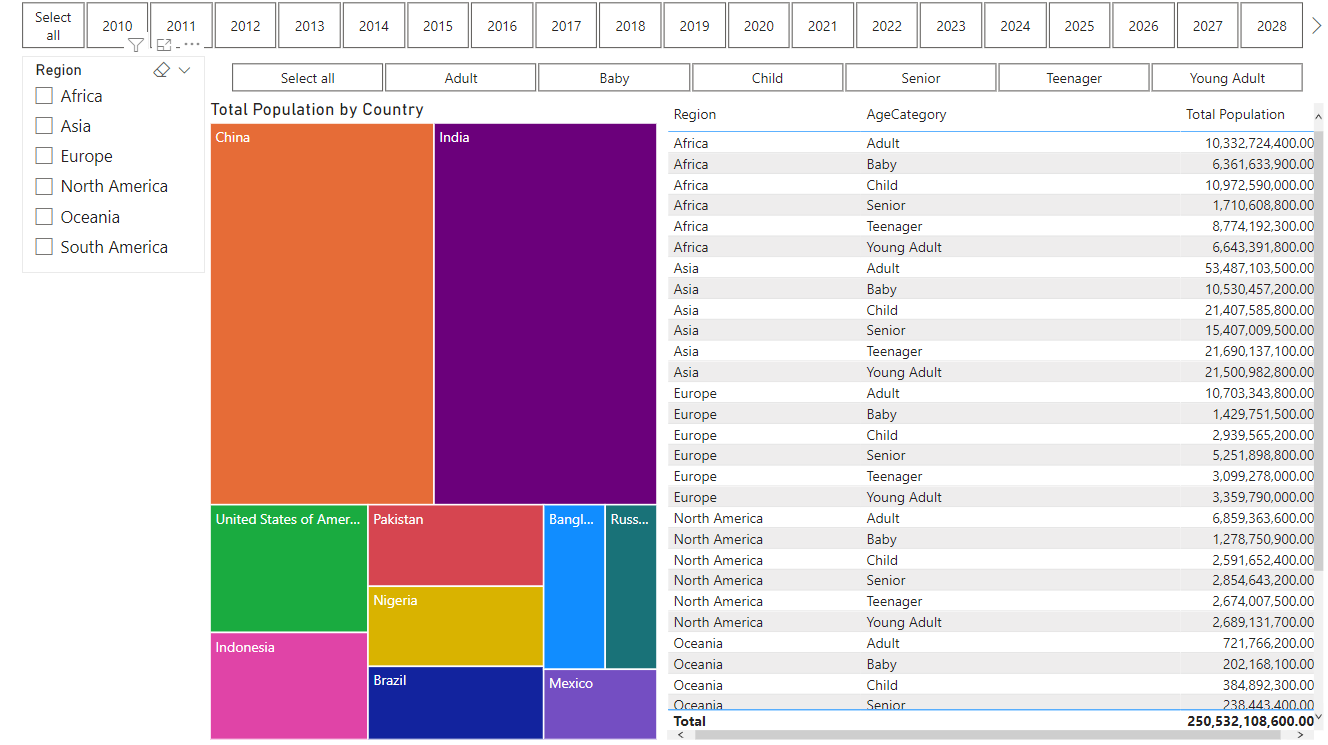

The page's visual inventory and layout, read from the dashboard file:
{"tool":"powerbi","page":{"name":"Treemap & Table","canvas":[1280,720],"ordinal":3},"visuals":[{"type":"slicer","fields":{"Values":["FactPopulation.Year"]},"box":[0,0,1280,58.4],"z":0},{"type":"slicer","fields":{"Values":["DimRegion.Region"]},"box":[26.3,58.4,175.1,208.1],"z":1000},{"type":"treemap","fields":{"Values":["FactPopulation.Total Population"],"Details":["DimRegion.Country"]},"box":[201.7,98.9,438.8,621.3],"z":2000},{"type":"slicer","fields":{"Values":["DimAge.AgeCategory"]},"box":[201.7,58.6,1078.3,40.3],"z":3000},{"type":"tableEx","fields":{"Values":["DimRegion.Region","DimAge.AgeCategory","FactPopulation.Total Population"]},"box":[640.5,98.9,639.5,621.3],"z":4000}]}

Visuals, with their boxes on the page's 1280x720 design canvas (x1, y1, x2, y2). These are canvas units, not pixel positions in the 1328x745 screenshot, which may show the page scaled, cropped or inside an application window:
slicer - FactPopulation.Year: <region>0, 0, 1280, 58</region>
slicer - DimRegion.Region: <region>26, 58, 201, 266</region>
treemap - FactPopulation.Total Population x DimRegion.Country: <region>202, 99, 640, 720</region>
slicer - DimAge.AgeCategory: <region>202, 59, 1280, 99</region>
tableEx - DimRegion.Region x DimAge.AgeCategory: <region>640, 99, 1280, 720</region>
